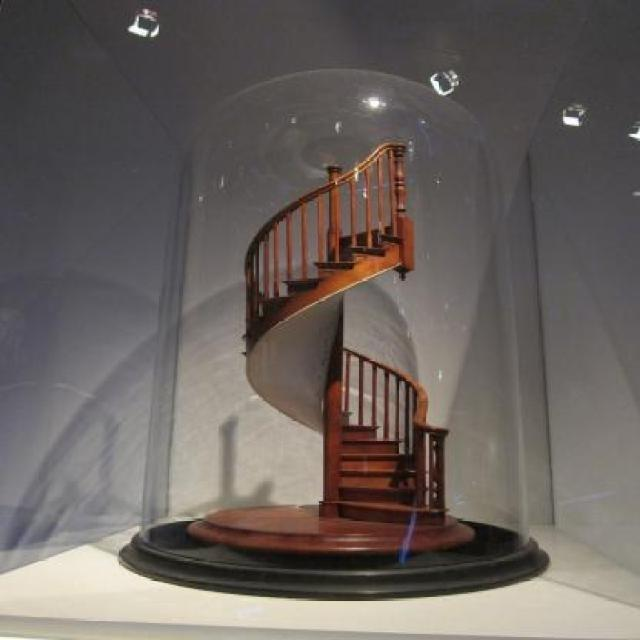stair: (238, 214, 451, 528)
